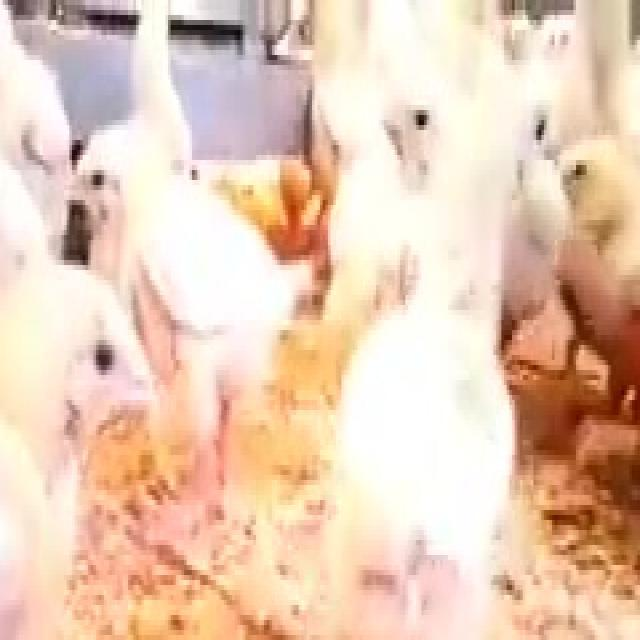poussin: (68, 123, 291, 522), (326, 288, 538, 640), (0, 259, 160, 640), (339, 81, 471, 327), (483, 91, 561, 340), (568, 136, 640, 366), (545, 3, 640, 137)
